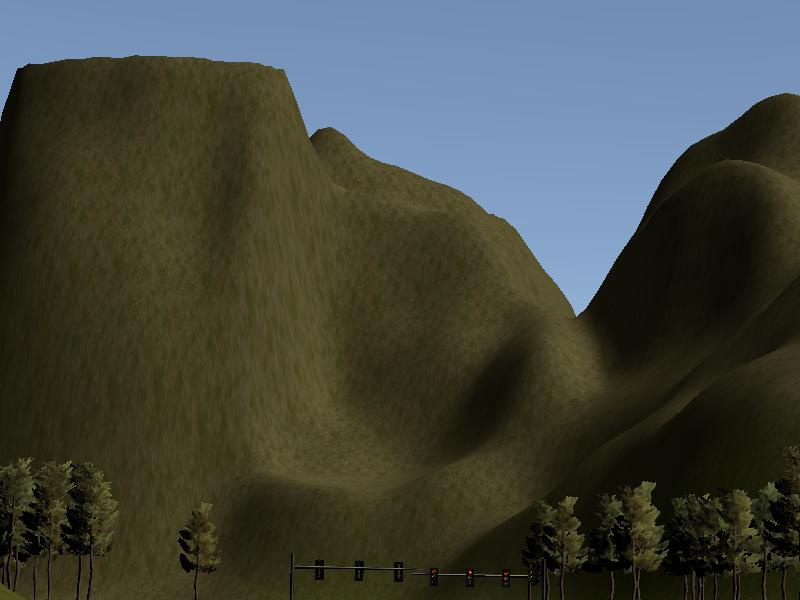Red: (465, 569, 474, 586)
